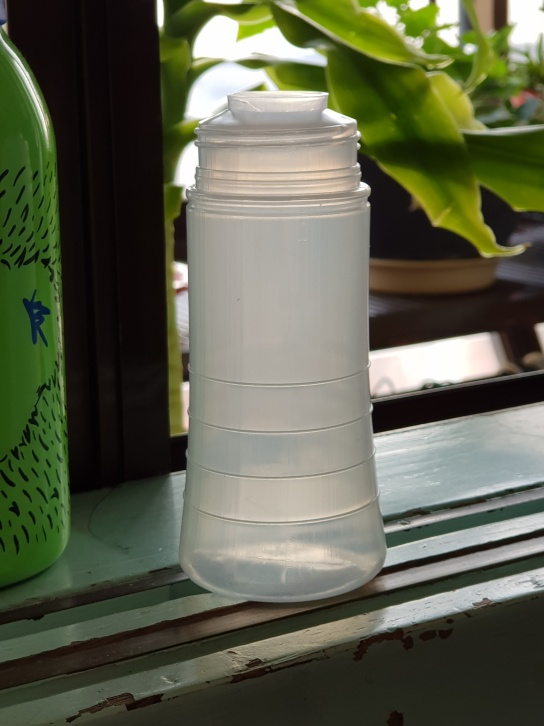Plastic: (176, 88, 394, 607)
